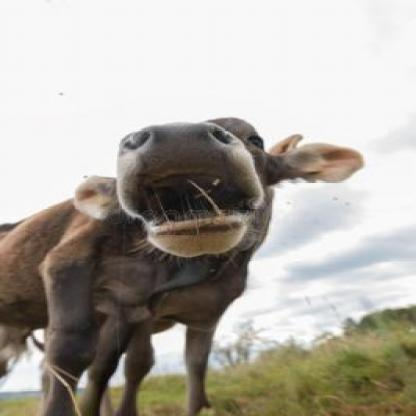lower: (172, 224, 219, 243)
mouth: (118, 125, 258, 255)
upper: (165, 126, 200, 144)
